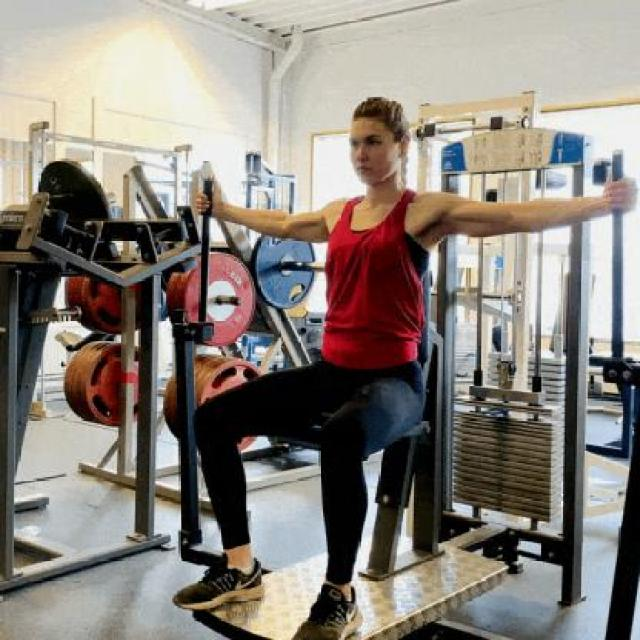chest fly machine: (137, 100, 640, 640)
